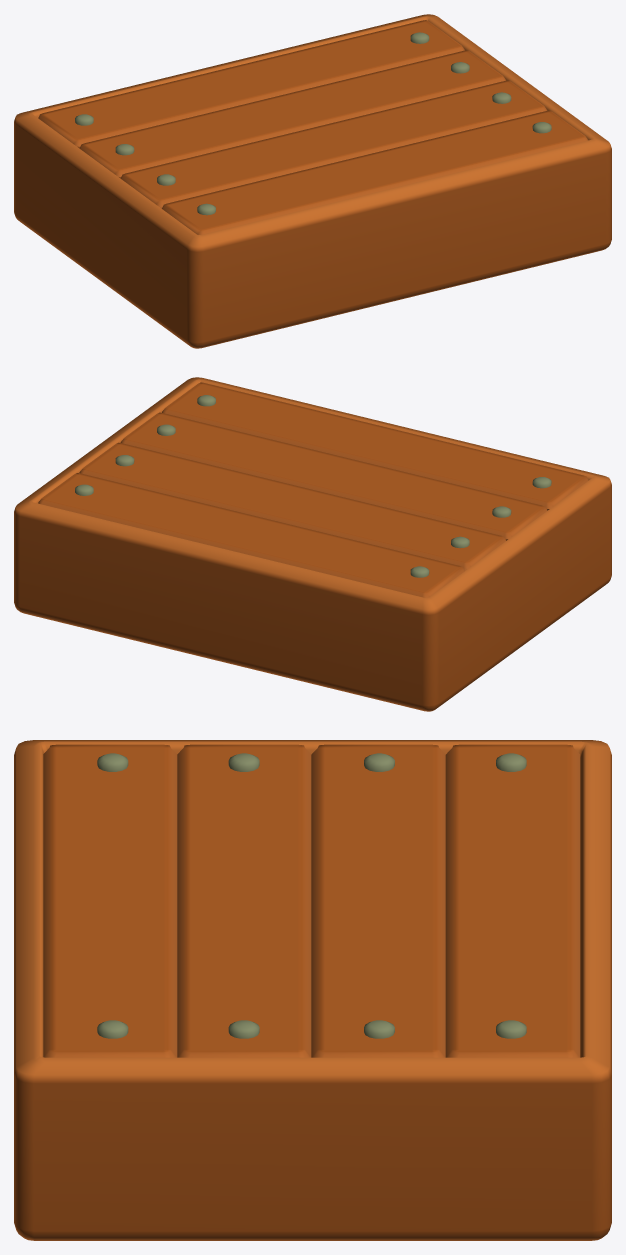
The model's file is Wooden_Crate_4x3.fbx.
3 views of the same model, one above another, from view 1: azimuth 30°, elevation 25°; view 2: azimuth 150°, elevation 25°; view 3: azimuth 270°, elevation 25° (orthographic). The views are drawn at different scales.
Parts seen in each view (by area): view 1: Wooden Crate 4x3; view 2: Wooden Crate 4x3; view 3: Wooden Crate 4x3.
Part boxes in pixels (x1,y1,x2,y2): Wooden Crate 4x3: (14,14,611,348); Wooden Crate 4x3: (14,377,611,711); Wooden Crate 4x3: (14,740,611,1240).
Bounding box in the file's own units: 400 × 104 × 300.
